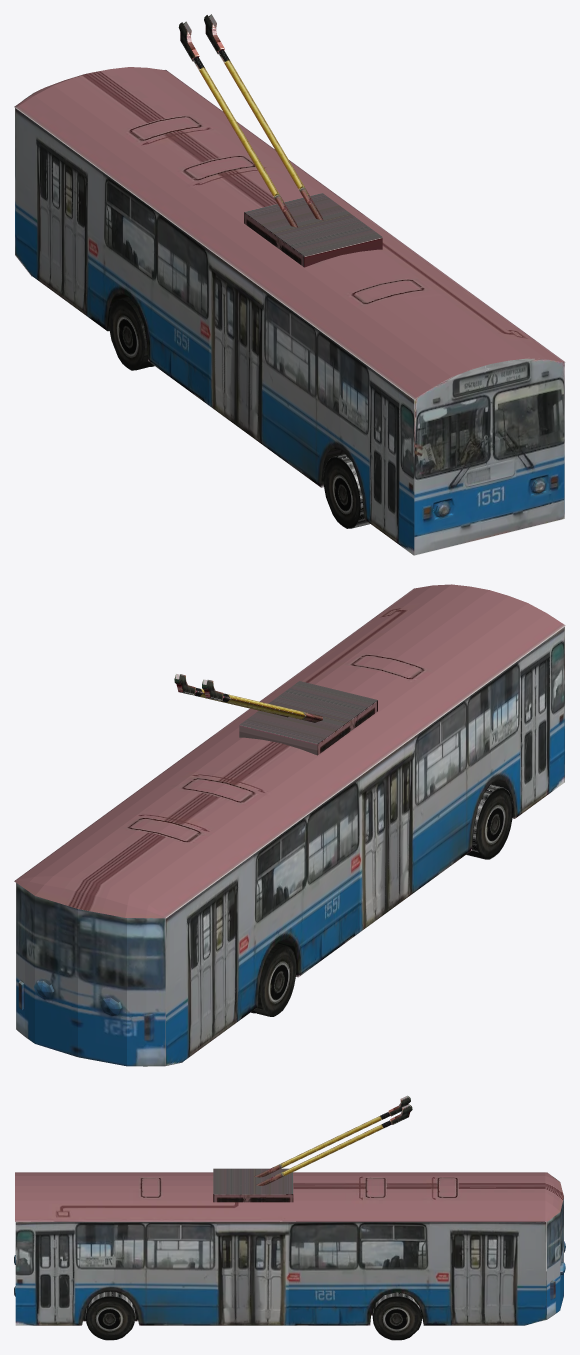
Rendered from bus-trolley.glb.
3 views of the same model, one above another, from view 1: azimuth 30°, elevation 25°; view 2: azimuth 150°, elevation 25°; view 3: azimuth 270°, elevation 25° (orthographic). The views are drawn at different scales.
Visible parts, largest first — view 1: kuzov_Material.001_0; view 2: kuzov_Material.001_0; view 3: kuzov_Material.001_0.
Part boxes in pixels (x1,y1,x2,y2): kuzov_Material.001_0: (14,14,565,555); kuzov_Material.001_0: (14,584,565,1066); kuzov_Material.001_0: (14,1095,565,1340).
Bounding box in the file's own units: 2.54 × 5.19 × 12.
1 material, 1 textured.
